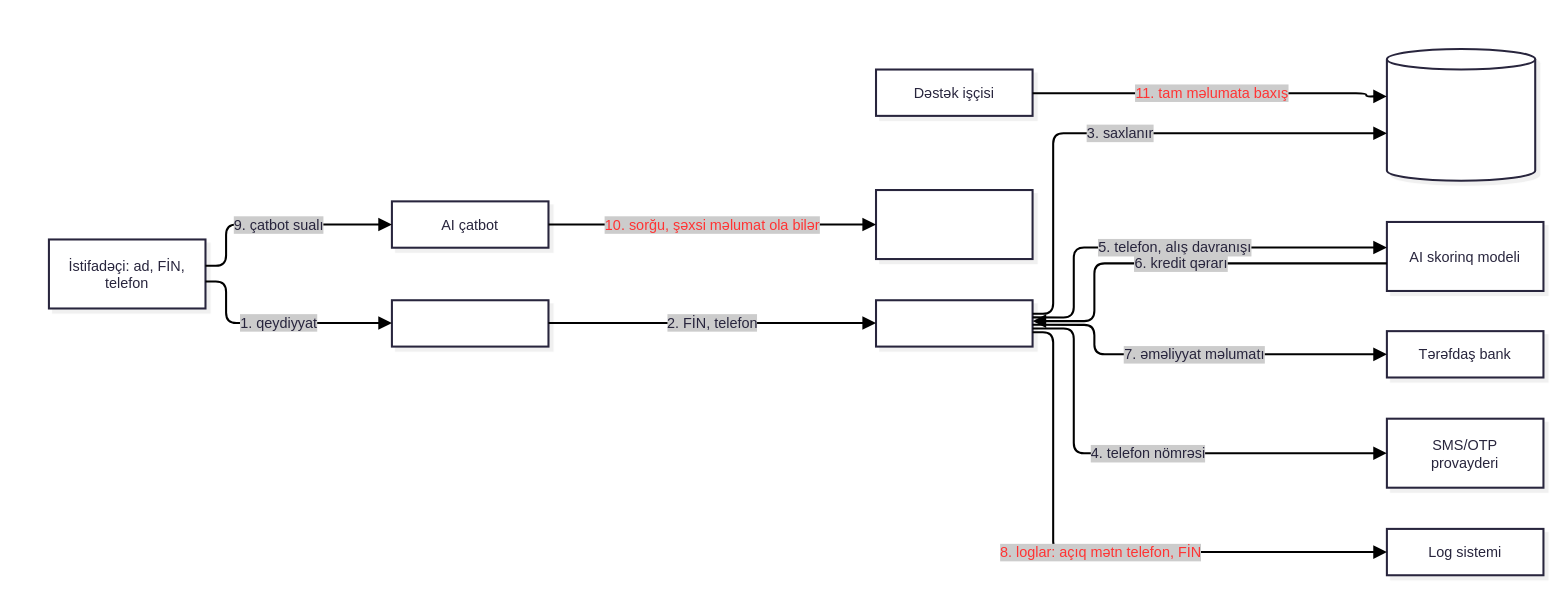
This 1566x597 diagram has some shape labels left out. Each missing label, with the centre of its shape:
Core sistem: pixel 955 325
Mobil tətbiq: pixel 471 325
PostgreSQL: müştəri məlumatı: pixel 1462 116
Xarici AI API: ölkə naməlum: pixel 955 226
